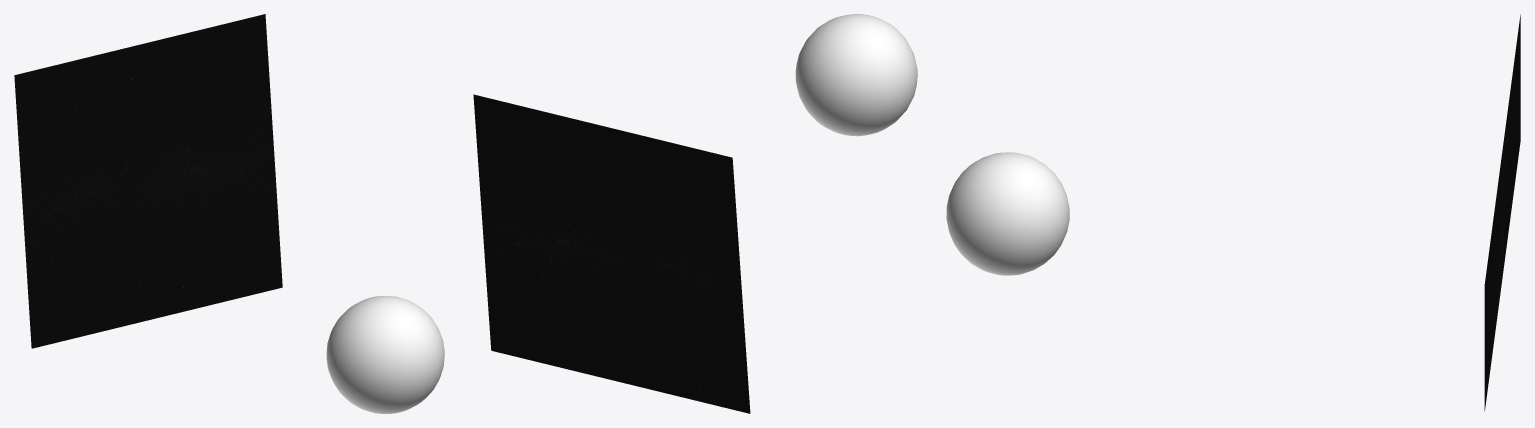
File: [qr-6]_Nastya_umnichka_sdelala_lunu.glb
The picture shows the model from 3 angles, left to right: view 1: azimuth 30°, elevation 25°; view 2: azimuth 150°, elevation 25°; view 3: azimuth 270°, elevation 25°; orthographic projection. The views are drawn at different scales.
Parts seen in each view (by area): view 1: Plane, Sphere; view 2: Plane, Sphere; view 3: Sphere, Plane.
Boxes of the visible parts, x1,y1,x2,y2 form: Plane: (14,14,282,348); Sphere: (326,296,444,413); Plane: (473,94,750,413); Sphere: (795,14,917,136); Sphere: (946,152,1069,275); Plane: (1484,14,1520,411).
Size of the model in its own units: 4.89 by 4.85 by 9.28.
Materials: 2 (1 with a texture image).
